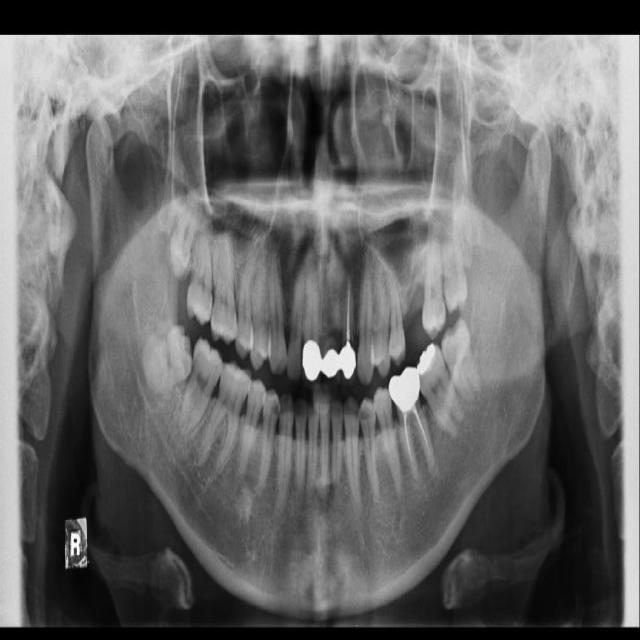3M ESPE Implant: (162, 174, 210, 283)
52: (297, 330, 360, 392), (402, 338, 455, 400), (383, 364, 431, 419)
73: (393, 403, 440, 483), (342, 268, 355, 347), (594, 574, 596, 586)
BioHorizons Implant: (421, 226, 450, 341)
BioLife Implant: (440, 215, 469, 315)
Biomet 3i Implant: (435, 315, 487, 408)
Blue Sky Bio Implant: (405, 340, 473, 443)
Caries: (185, 202, 219, 328)
Implant: (175, 336, 228, 443)
Keystone Dental Implant: (130, 320, 206, 401)
